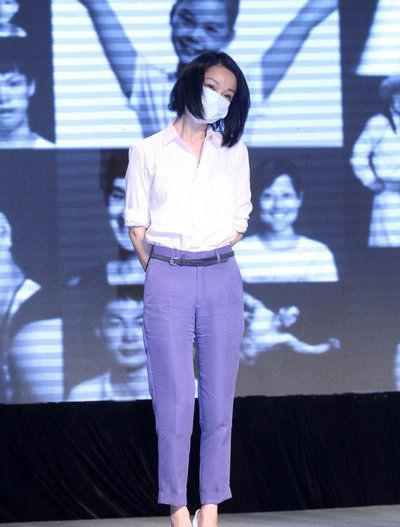NONE: (174, 9, 229, 65), (108, 315, 152, 366), (261, 187, 299, 232), (1, 75, 29, 134)
OK: (186, 69, 244, 127)
